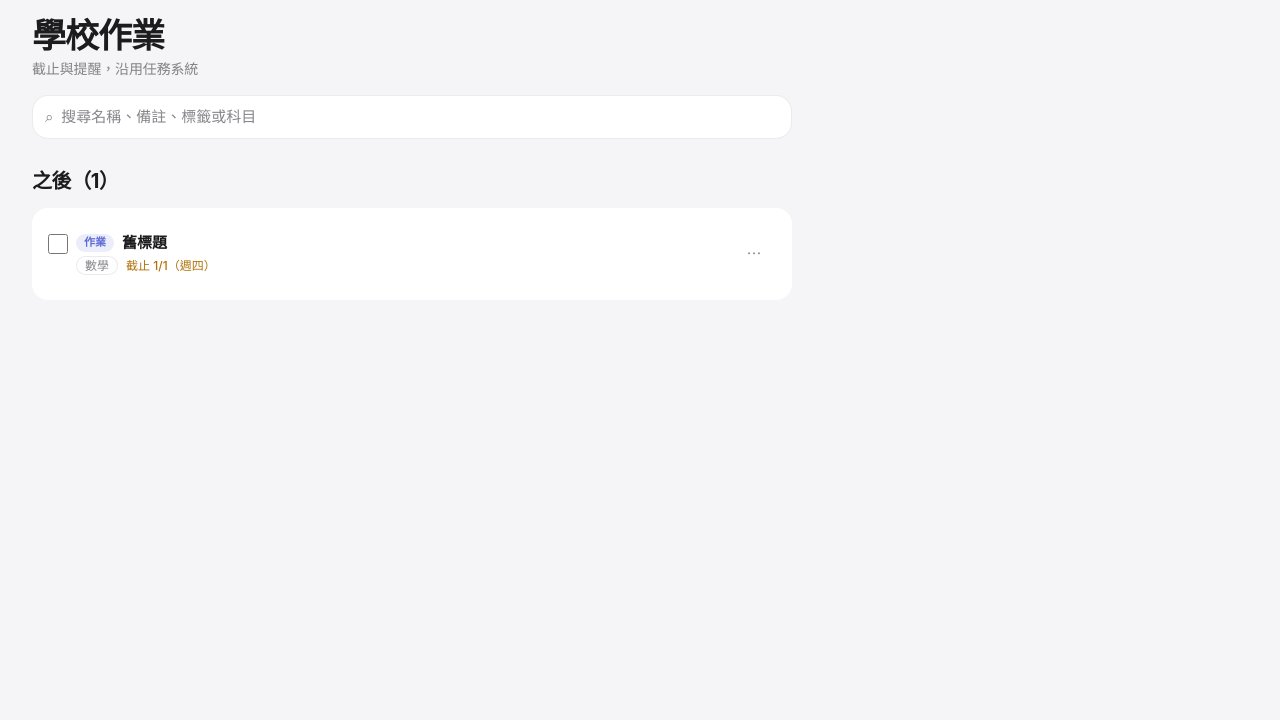
Test case: 學校作業表單：寫入成功但刷新失敗要可見且可重試 › 作業頁編輯：PATCH 成功、reload 失敗 → 提示並只重試 reload
Click the button with aria-label "編輯 舊標題" at (95, 243), box [76, 232, 724, 275]
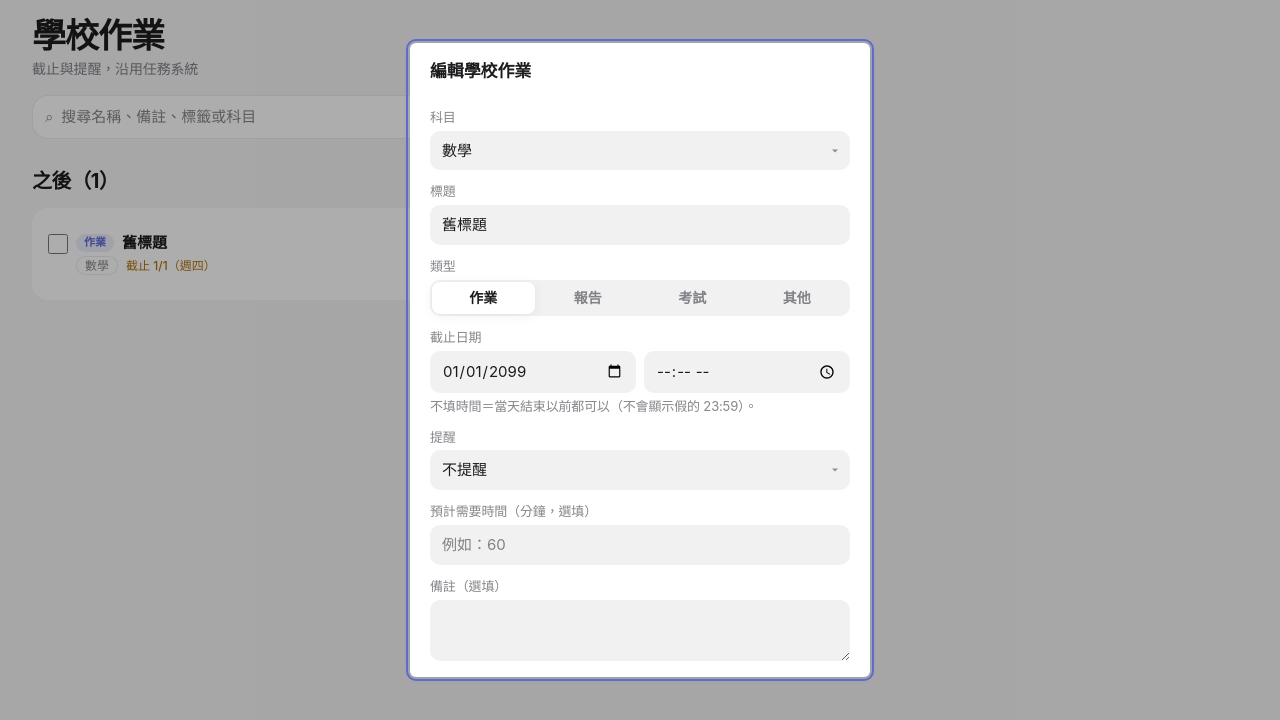
Replace the text in the field showing "舊標題" with "新標題" at (640, 225), box [430, 205, 850, 245]
(page scrolled)
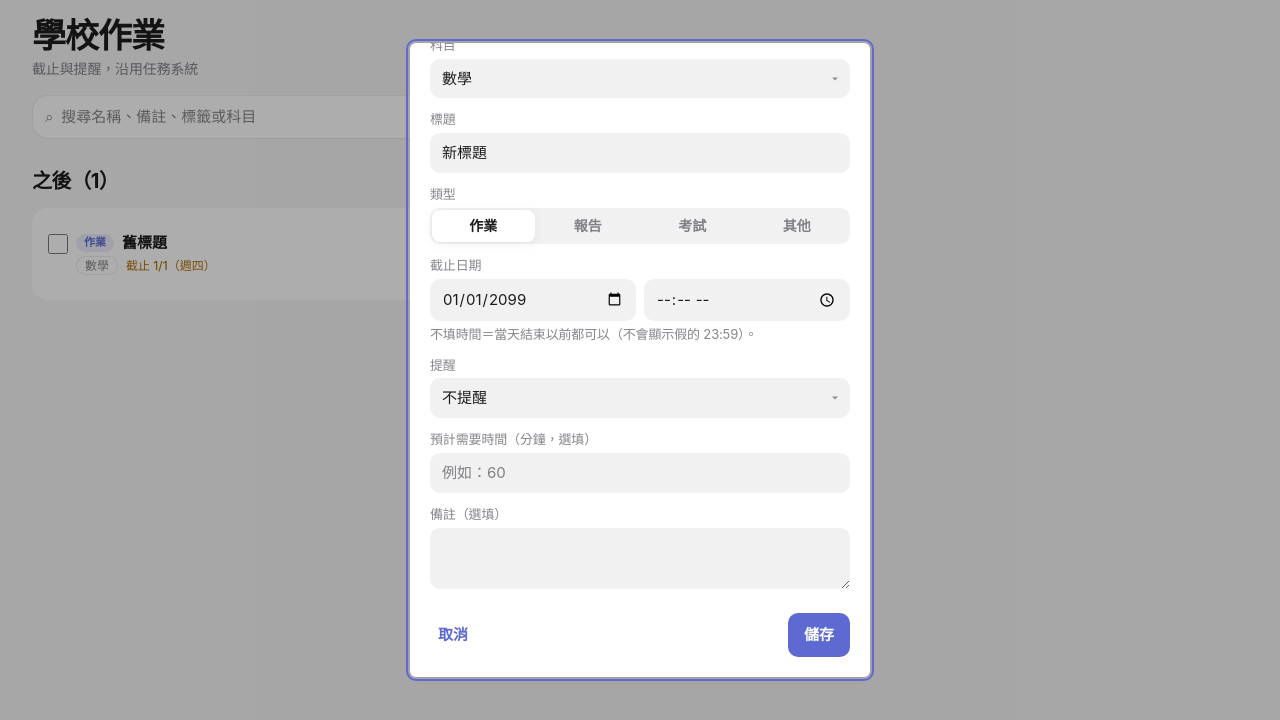
Click the button "儲存" at (819, 635), box [788, 613, 850, 657]
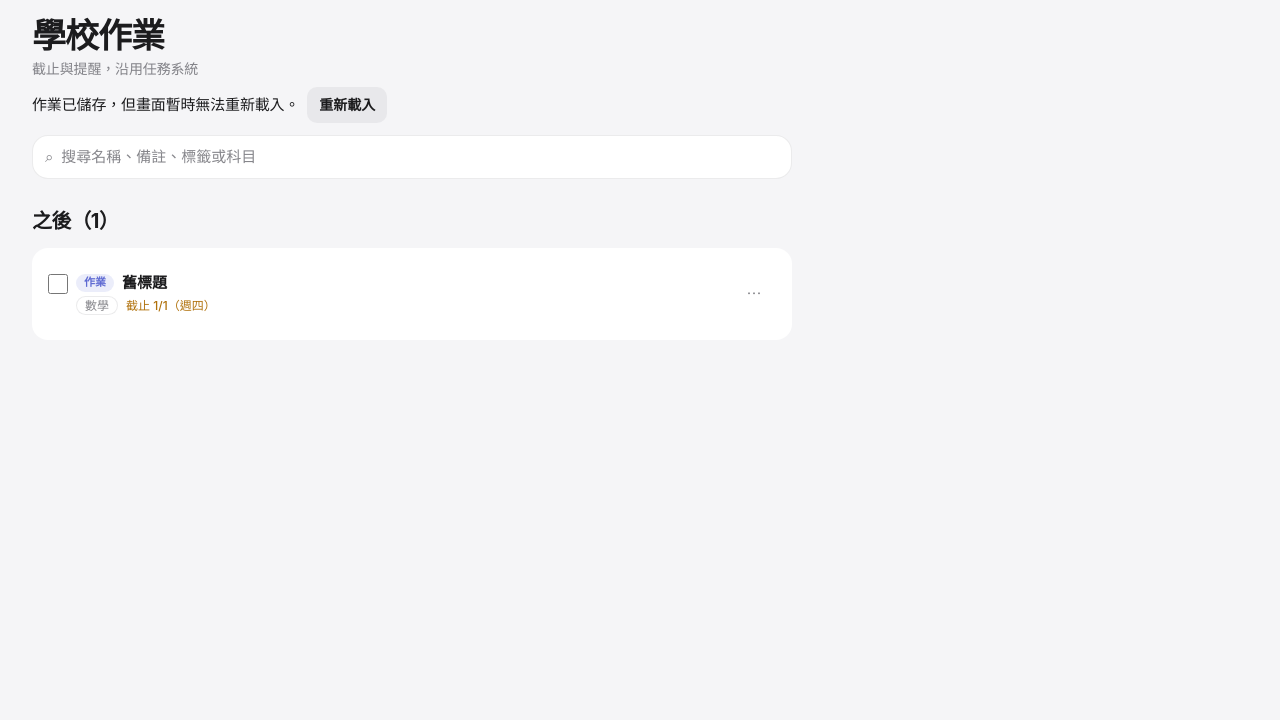
expect the message shows "作業已儲存，但畫面暫時無法重新載入": met, box [32, 95, 299, 114]
Click the button "重新載入" at (347, 105), box [307, 87, 387, 123]
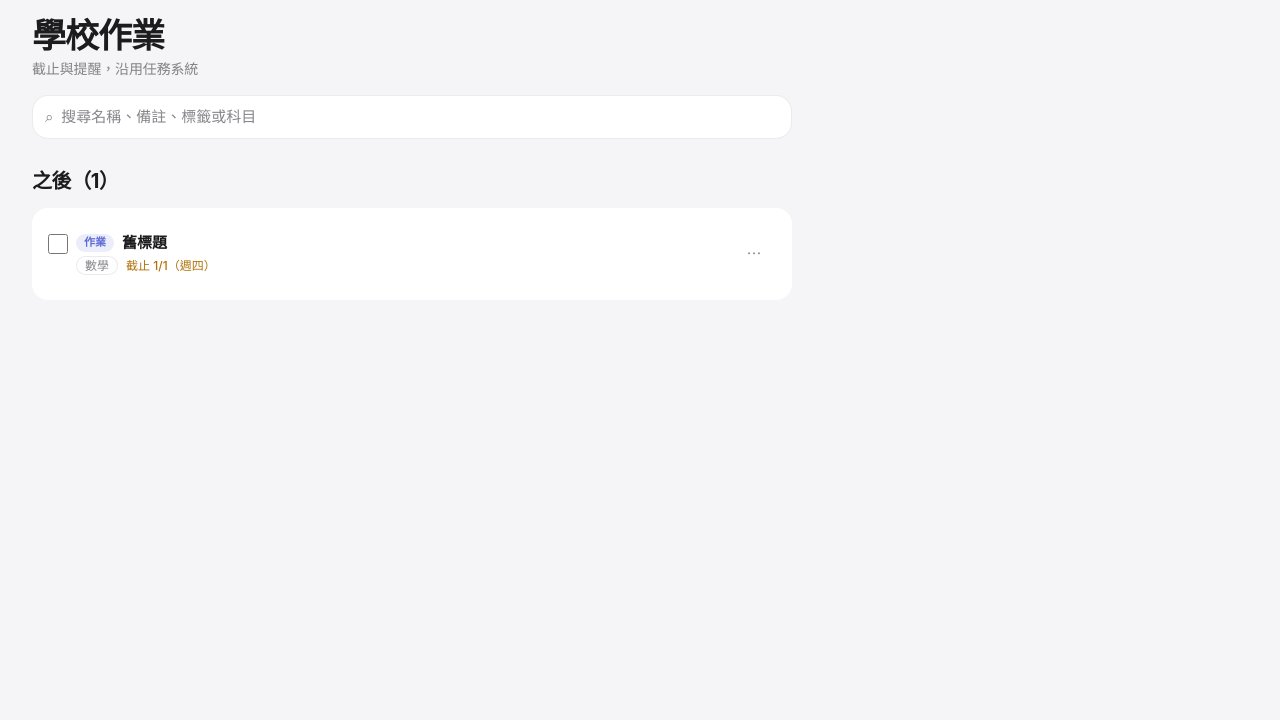
expect the message "作業已儲存，但畫面暫時無法重新載入。 重新載入" is gone: met
